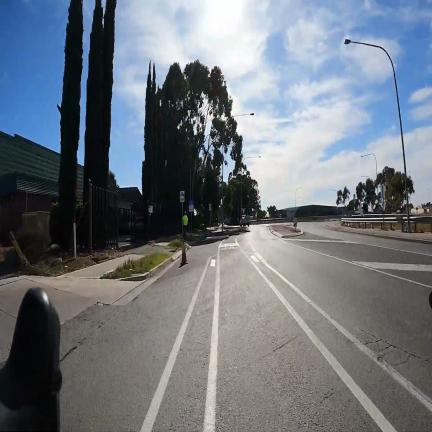Bike_Lane: (216, 248, 378, 432)
Bike_Sign: (189, 200, 194, 212), (180, 191, 184, 202)
